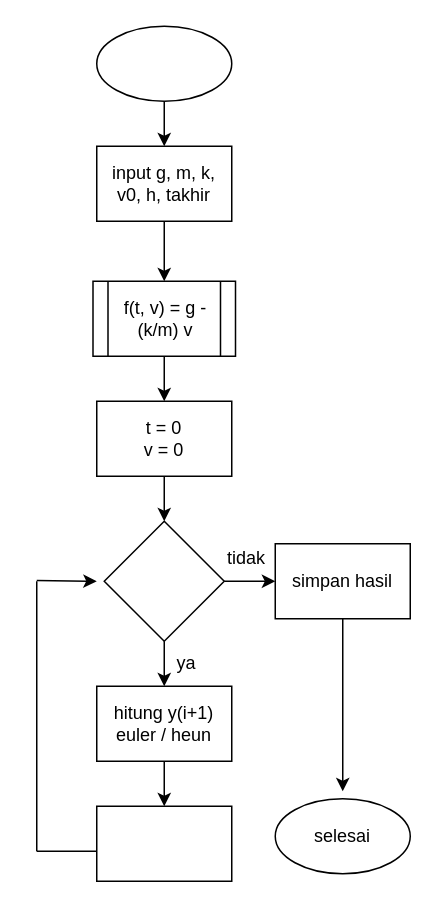
This 437x908 diagram has some shape labels left out. The shapes that lost their labels are listed below. From the top down, each one's centre as x and y in pixels, then its label:
At pixel 163 63: "mulai".
At pixel 163 580: "t <= takhir?".
At pixel 163 843: "t = t + h v = v(i+1)".
